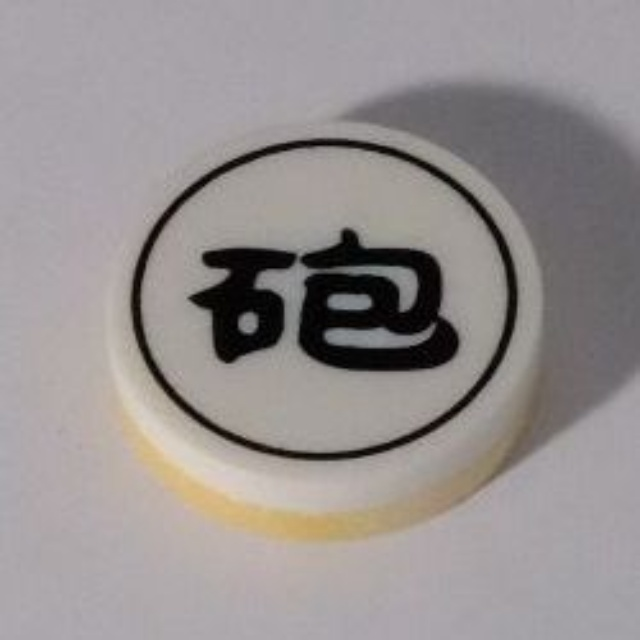black_phao: (101, 113, 555, 547)
